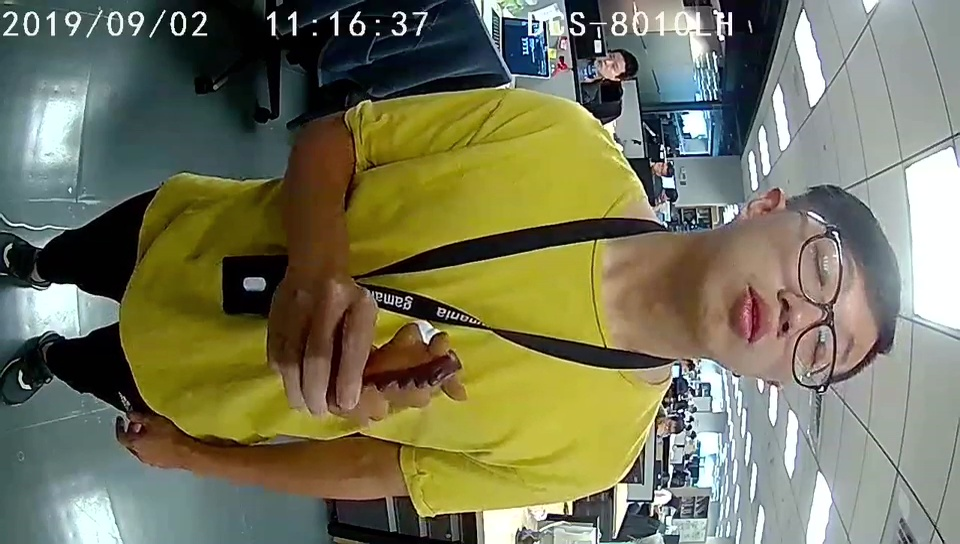horse: (368, 320, 467, 421)
